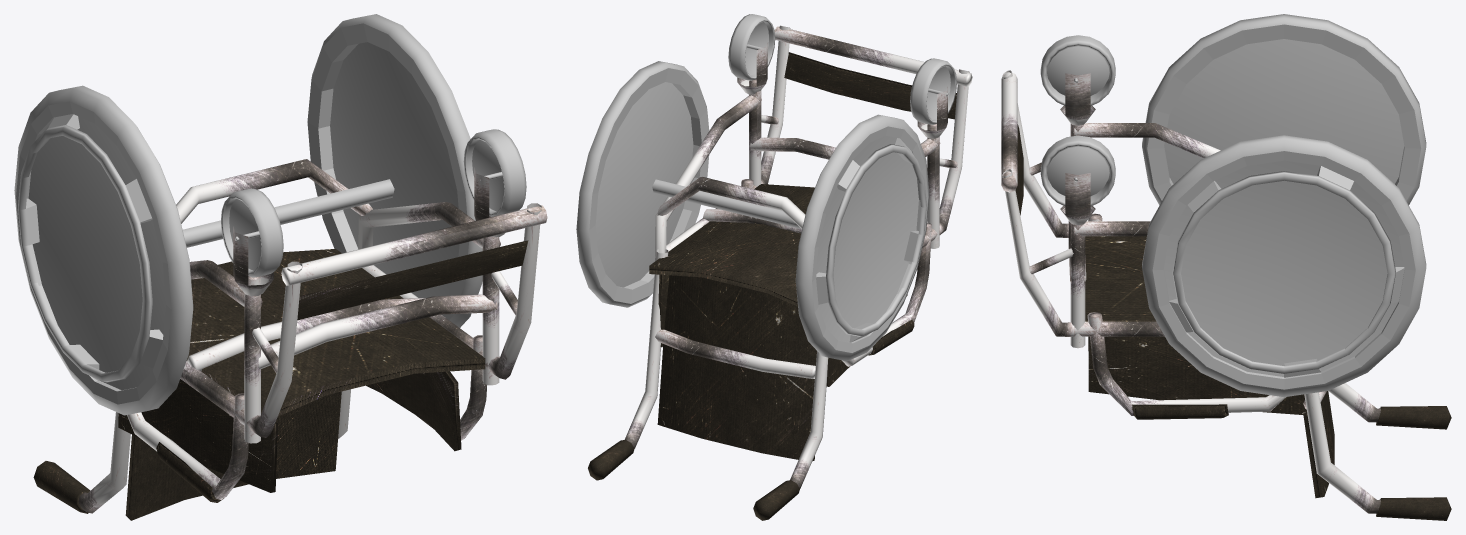
Rendered from New_wheelchair.fbx.
The picture shows the model from 3 angles, left to right: view 1: azimuth 30°, elevation 25°; view 2: azimuth 150°, elevation 25°; view 3: azimuth 270°, elevation 25°; orthographic projection. The views are drawn at different scales.
Visible parts, largest first — view 1: polySurface119, polySurface83; view 2: polySurface119, polySurface83; view 3: polySurface83, polySurface119.
Part boxes in pixels (x1,y1,x2,y2): polySurface119: [33, 129, 547, 520]; polySurface83: [14, 14, 482, 415]; polySurface119: [588, 14, 972, 520]; polySurface83: [576, 61, 929, 361]; polySurface83: [1142, 14, 1426, 397]; polySurface119: [1001, 35, 1451, 520].
Size of the model in its own units: 9.59 by 12.75 by 13.09.
